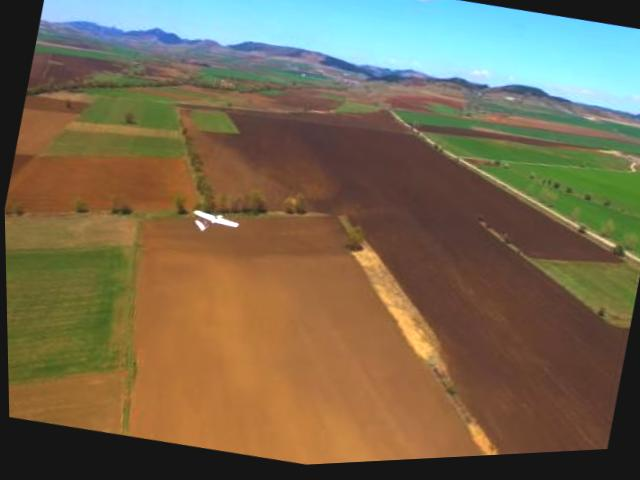uav: (184, 201, 241, 247)
